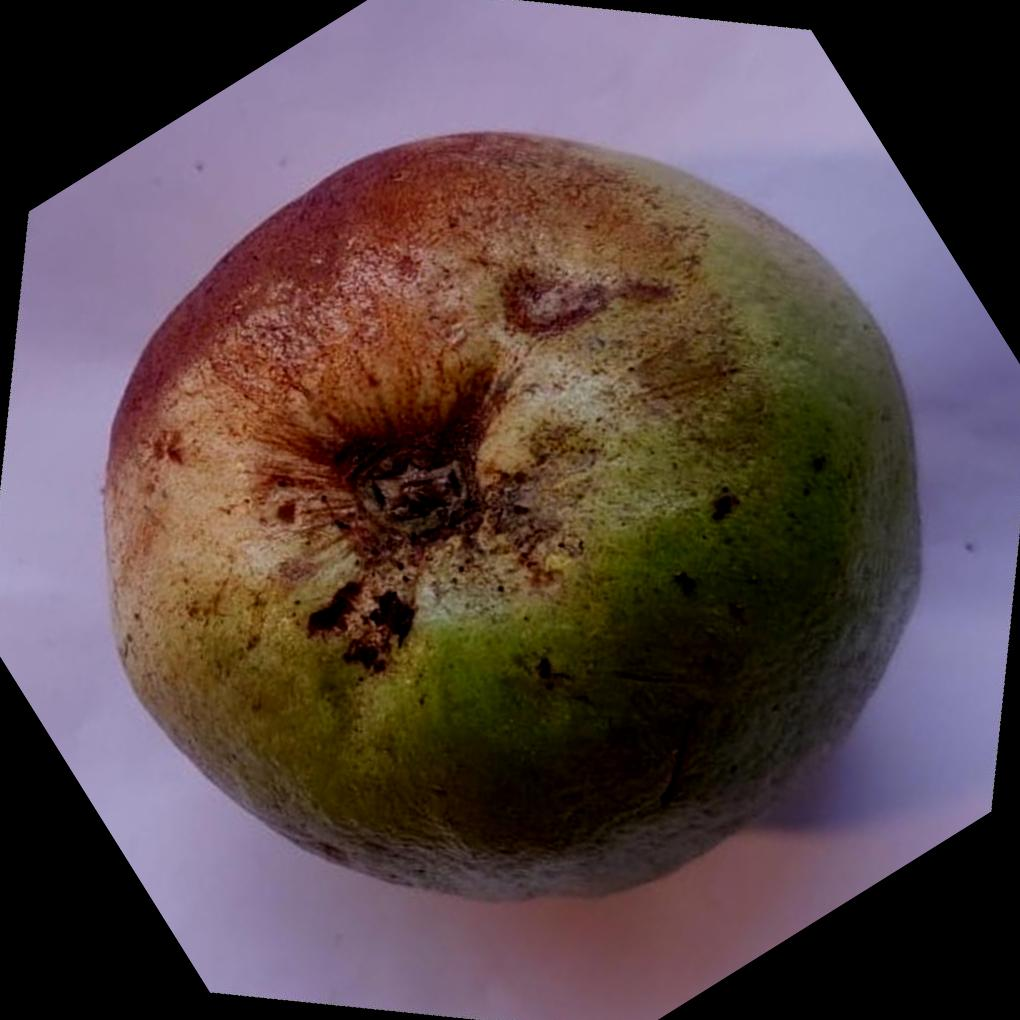FreshOrange: (101, 126, 927, 903)
